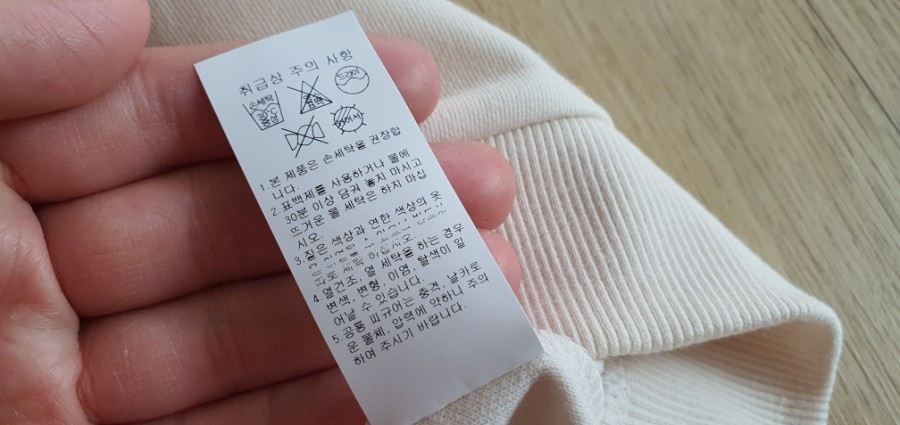KR_dry_clean: (334, 64, 371, 97)
KR_flat_dry_in_shade: (331, 104, 366, 133)
KR_hand_wash_30_neutral: (245, 95, 287, 130)
KR_no_chlorine_bleach: (292, 79, 332, 113)
KR_no_wring: (282, 121, 328, 152)
